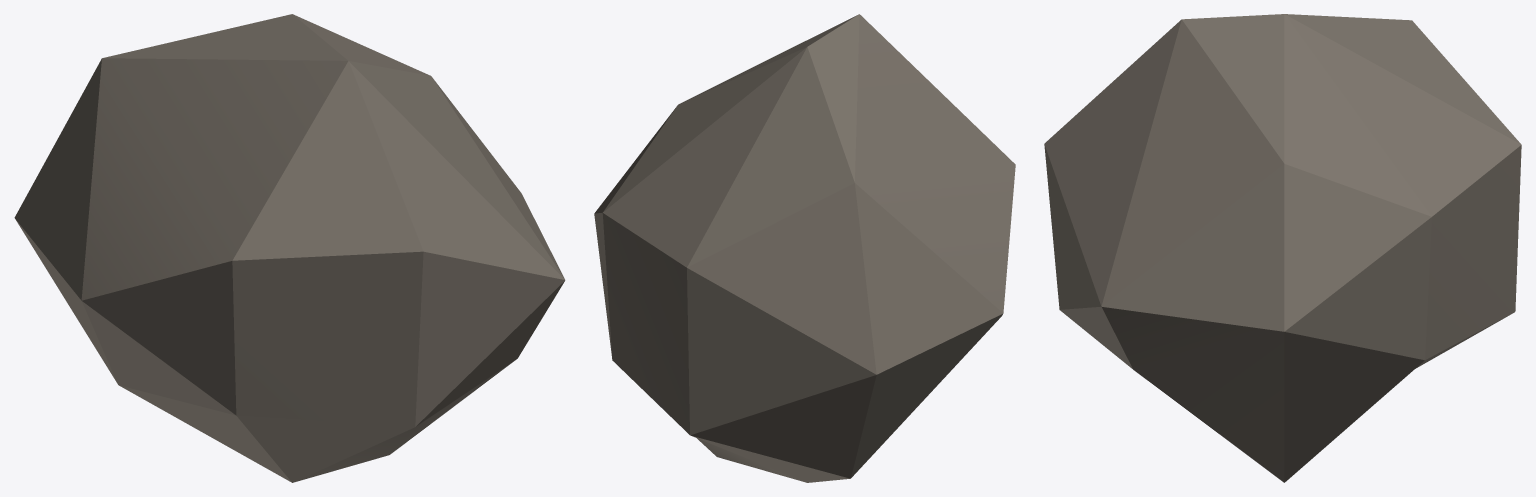
Rendered from worlds_SM_Env_Asteroid_02.gltf.
3 renders of one model, left to right at view 1: azimuth 30°, elevation 25°; view 2: azimuth 150°, elevation 25°; view 3: azimuth 270°, elevation 25°, orthographic. The views are drawn at different scales.
Parts seen in each view (by area): view 1: SM_Env_Asteroid_02; view 2: SM_Env_Asteroid_02; view 3: SM_Env_Asteroid_02.
Boxes of the visible parts, bbox=[...] form: SM_Env_Asteroid_02: bbox=[14, 14, 565, 482]; SM_Env_Asteroid_02: bbox=[594, 14, 1015, 482]; SM_Env_Asteroid_02: bbox=[1044, 14, 1521, 482].
Size of the model in its own units: 5.98 by 6.09 by 6.14.
1 material, 1 textured.
